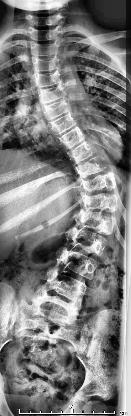Vertebrae: (32, 294, 76, 326), (62, 248, 100, 280), (47, 270, 84, 302), (70, 226, 108, 256), (74, 158, 112, 182), (57, 126, 87, 152), (84, 210, 116, 234), (82, 174, 120, 194), (69, 142, 97, 166), (39, 99, 71, 119), (38, 84, 70, 104), (86, 194, 120, 212), (29, 28, 63, 44), (51, 114, 77, 134), (31, 42, 61, 58), (34, 57, 60, 74), (33, 72, 63, 86)
